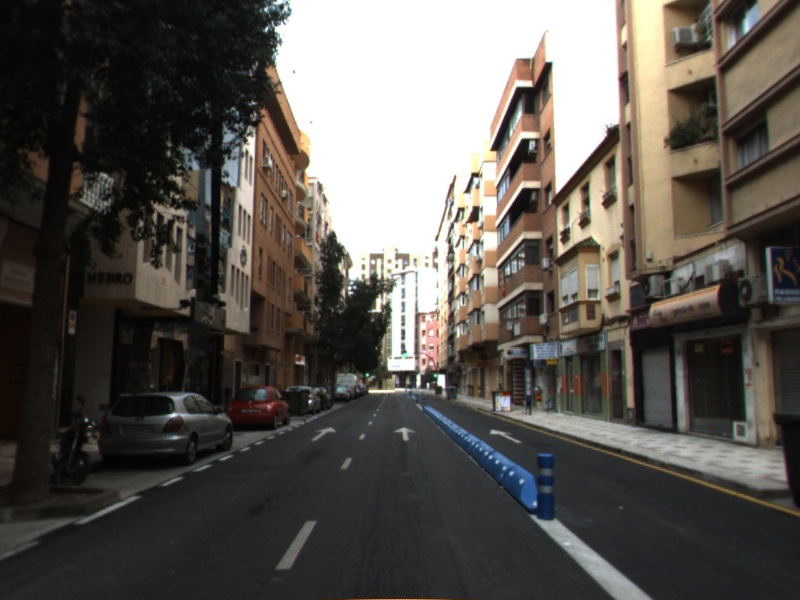STRAIGHT: (488, 427, 523, 445), (309, 425, 338, 443), (392, 425, 417, 442)
